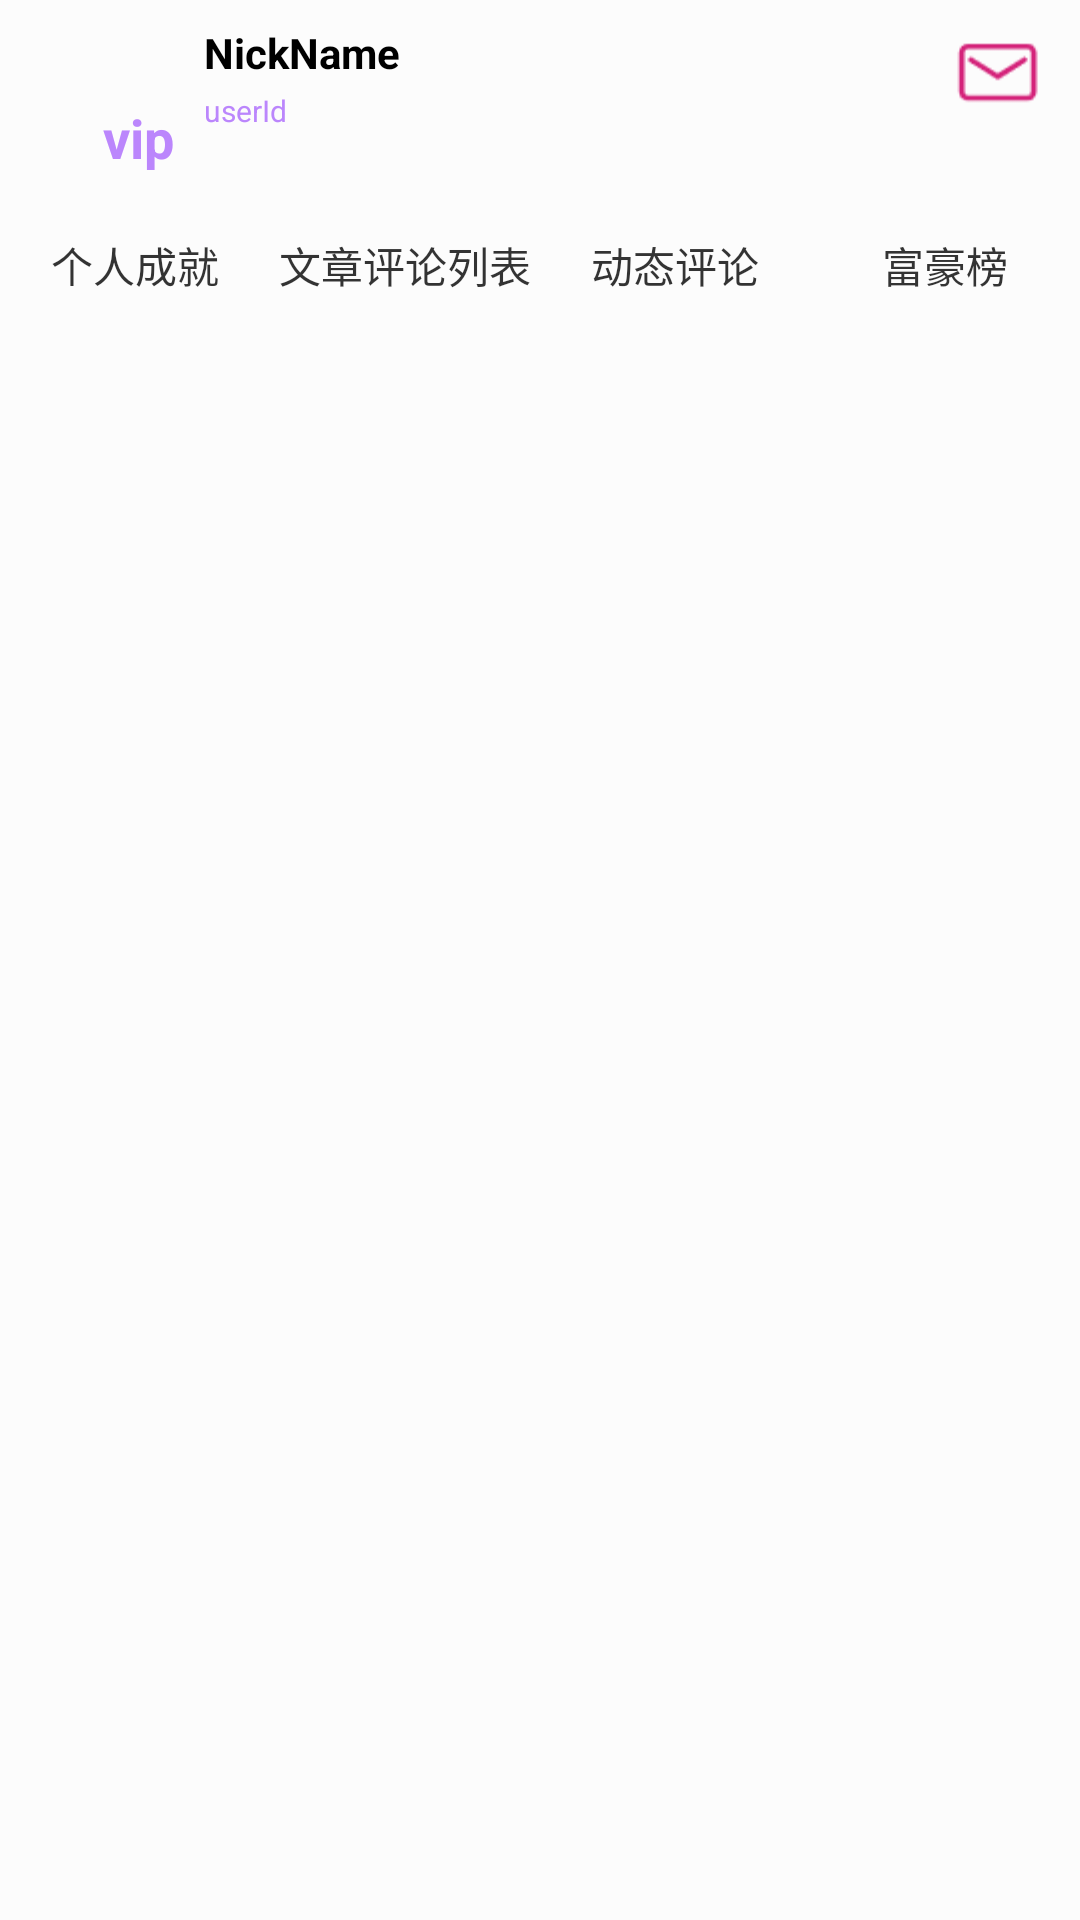

Named icons in this screenshot (1080px x 1920px) and their centers, (x,y):
user email: (997,72)
